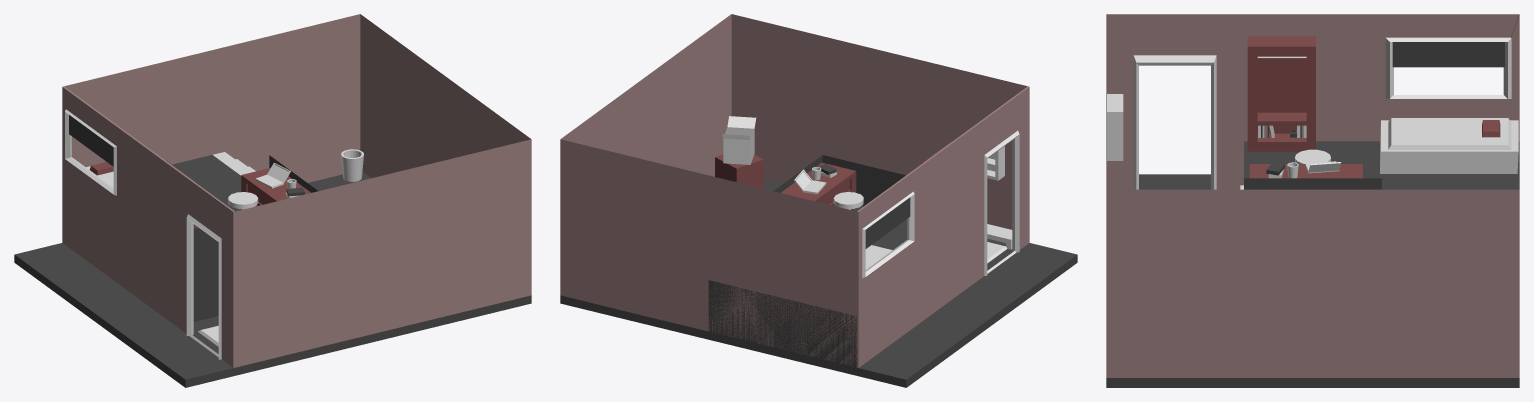
Rendered from room.fbx.
3 views of the same model, side by side, from view 1: azimuth 30°, elevation 25°; view 2: azimuth 150°, elevation 25°; view 3: azimuth 270°, elevation 25° (orthographic). The views are drawn at different scales.
Parts seen in each view (by area): view 1: polySurface4, floor2, polySurface3, door, pCube2, pasted__pTorus1, pCube10, pasted__glass, pCube9, chair1; view 2: polySurface4, floor2, polySurface3, door, polySurface7, pCube2, pCube13, pasted__pTorus1, pCube10, pCube4, chair1; view 3: polySurface4, bookcase, bed, polySurface3, floor2, pCube10, door, pasted__pTorus1, pCube4, pCube2, chair1, pCube9.
Part boxes in pixels (box(x1,y1,x2,y2)): polySurface4: box(62, 14, 531, 367); floor2: box(14, 172, 531, 387); polySurface3: box(172, 155, 318, 321); door: box(186, 214, 221, 359); pCube2: box(241, 168, 310, 206); pasted__pTorus1: box(65, 109, 116, 195); pCube10: box(69, 115, 113, 166); pasted__glass: box(341, 149, 363, 181); pCube9: box(255, 162, 290, 188); chair1: box(228, 192, 258, 209); polySurface4: box(560, 14, 1029, 367); floor2: box(560, 178, 1077, 387); polySurface3: box(708, 155, 907, 367); door: box(984, 130, 1019, 275); polySurface7: box(722, 116, 756, 164); pCube2: box(781, 162, 856, 209); pCube13: box(715, 154, 763, 188); pasted__pTorus1: box(862, 191, 914, 278); pCube10: box(865, 197, 910, 248); pCube4: box(987, 146, 1004, 180); chair1: box(833, 192, 863, 209); polySurface4: box(1106, 14, 1519, 378); bookcase: box(1247, 36, 1315, 151); bed: box(1380, 118, 1518, 173); polySurface3: box(1244, 141, 1519, 189); floor2: box(1106, 174, 1519, 387); pCube10: box(1392, 42, 1504, 67); door: box(1133, 55, 1216, 189); pasted__pTorus1: box(1385, 37, 1511, 98); pCube4: box(1107, 94, 1123, 160); pCube2: box(1249, 164, 1362, 178); chair1: box(1295, 149, 1330, 163); pCube9: box(1305, 161, 1340, 173).
Bounding box in the file's own units: 7 × 3.18 × 6.
